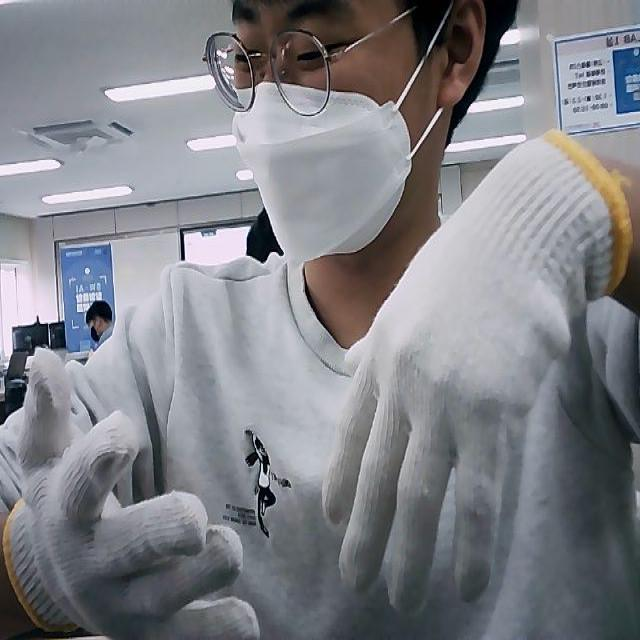gloves: (322, 130, 630, 614), (2, 348, 262, 640)
